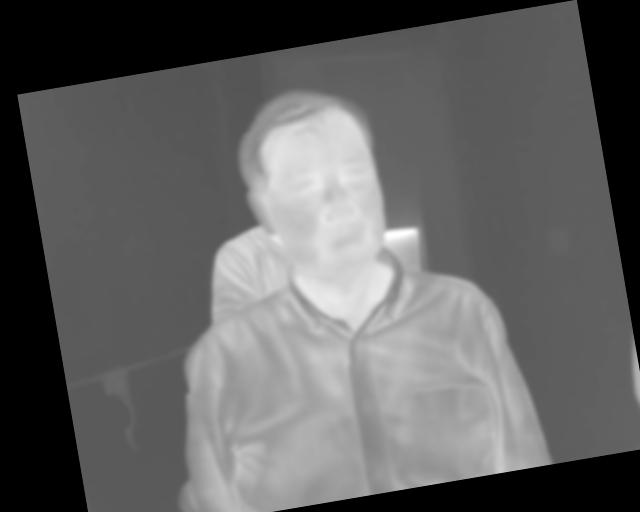face: (226, 74, 395, 291)
